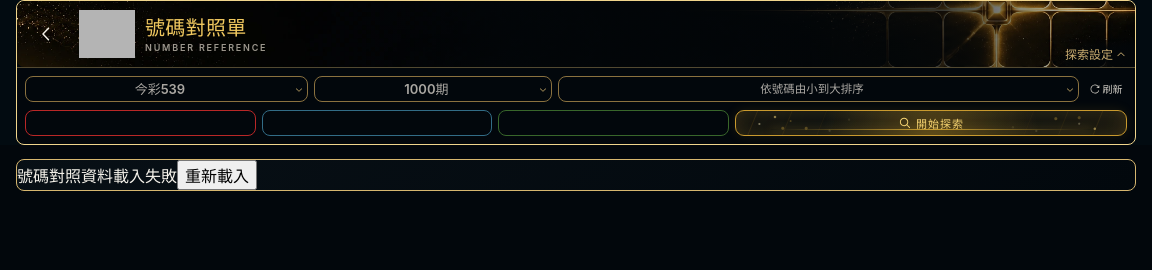
Test: data page request failures are not normal empty data › initial number-reference history shows a failure and retries the actual history read
Expected: the message shows "號碼對照資料載入失敗", left=17, top=166, right=177, bottom=186
What coordinates should you click on to do the following:
click the button with aria-label "重新載入號碼對照資料"
I would click on:
 (217, 175)
Its box is left=177, top=160, right=257, bottom=190.
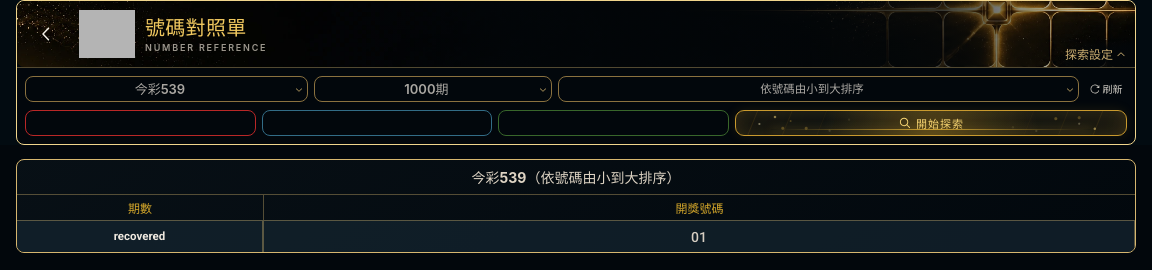
Expected: the button "recovered" is shown, left=17, top=221, right=263, bottom=252
